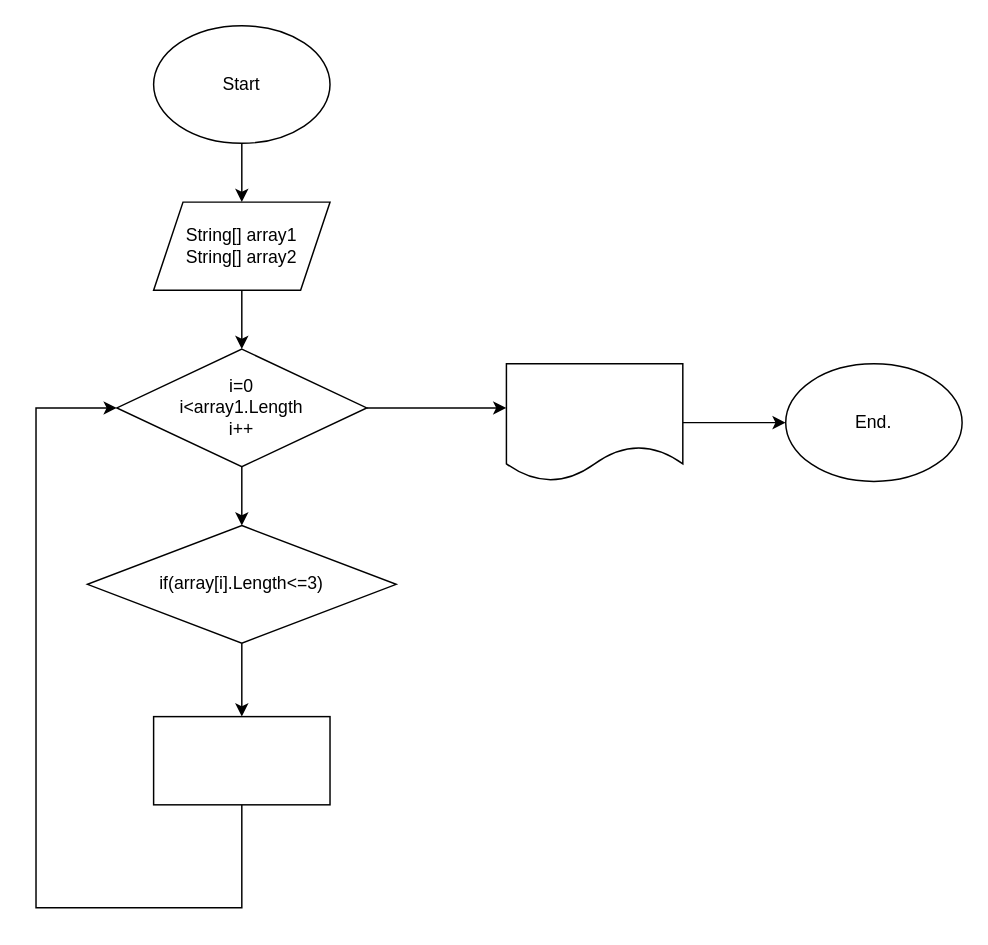
This 988x945 diagram has some shape labels left out. Each missing label, with the centre of its shape:
"array2+=array1[i]" belongs at point 241,760.
"Print(array2)" belongs at point 594,421.
